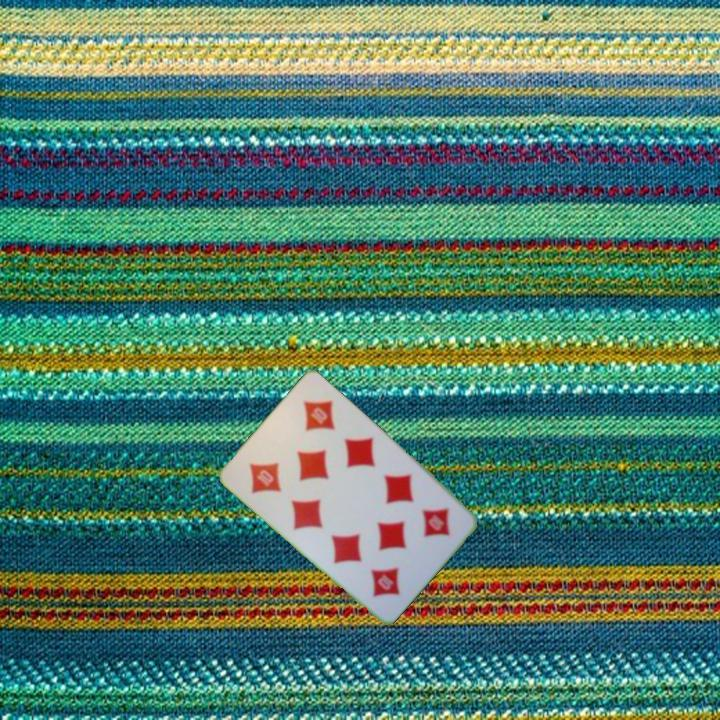d_10.png: (228, 427, 314, 513), (384, 483, 469, 569)
